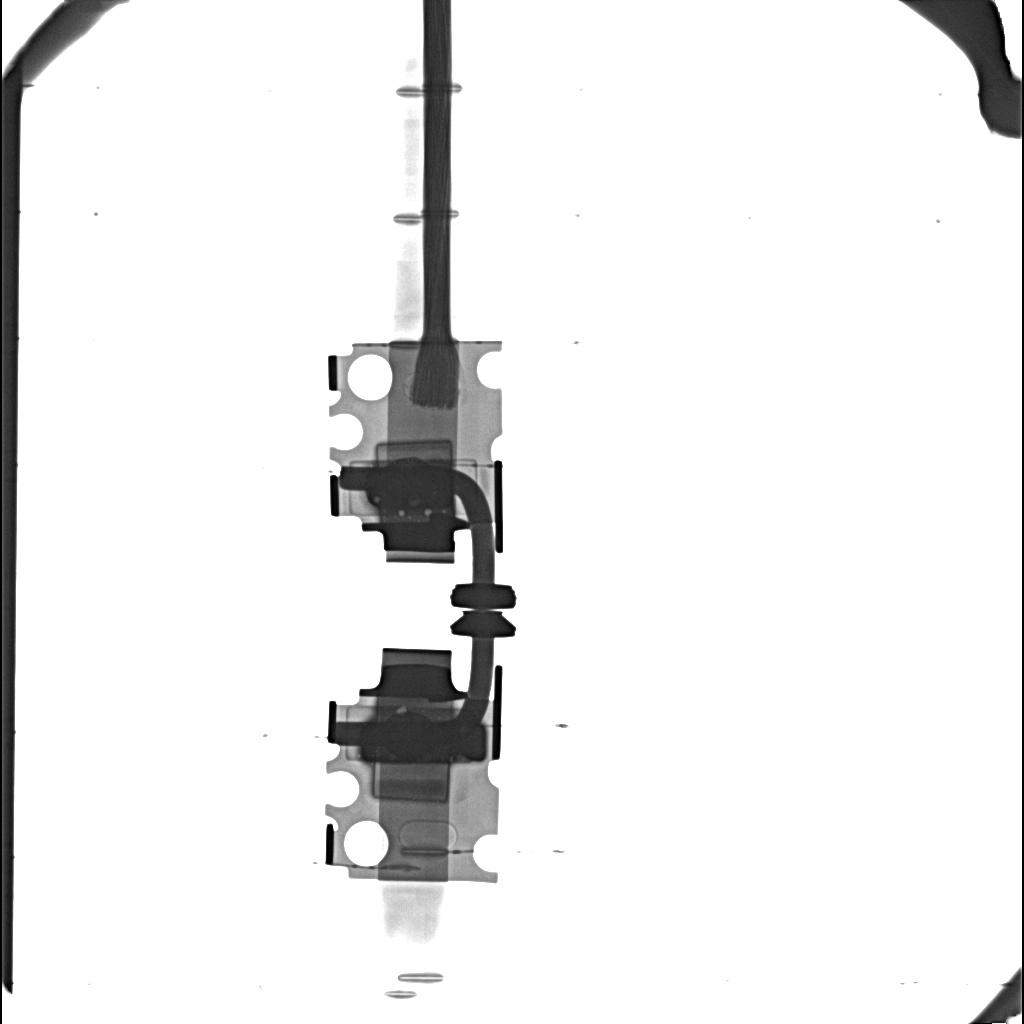defect: (362, 714, 487, 762), (368, 458, 452, 510), (371, 763, 449, 803), (376, 440, 453, 462), (396, 706, 406, 713), (424, 509, 432, 516), (399, 511, 405, 517)
